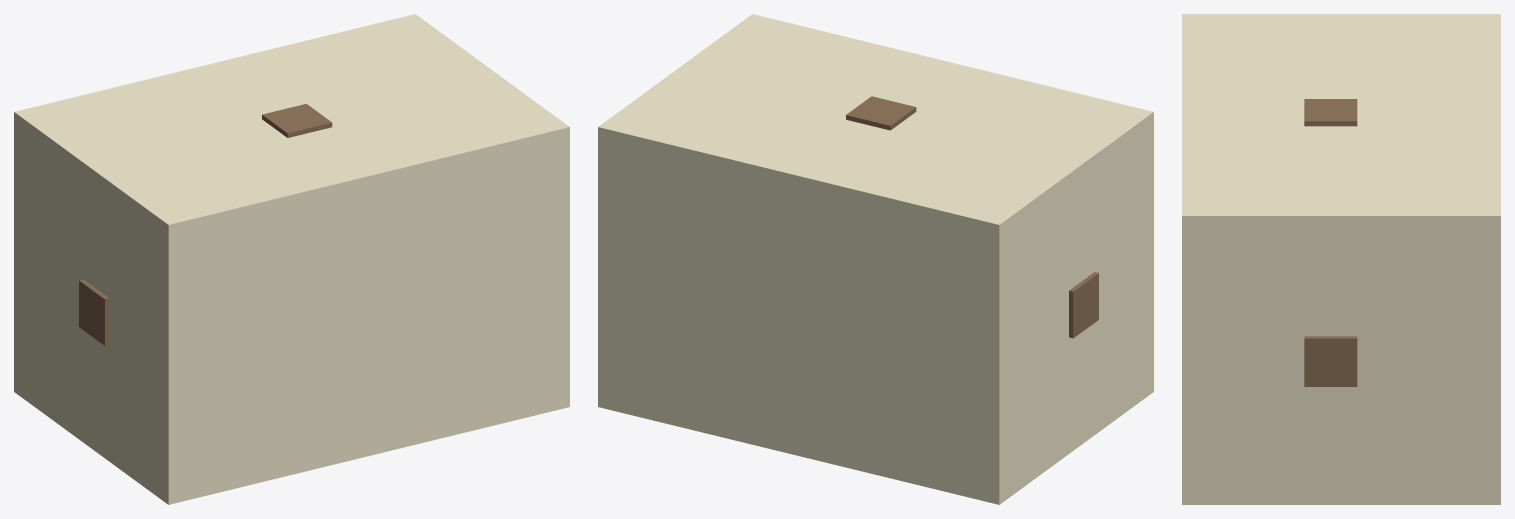
The model's file is quest_courier_package.glb.
3 views of the same model, side by side, from view 1: azimuth 30°, elevation 25°; view 2: azimuth 150°, elevation 25°; view 3: azimuth 270°, elevation 25° (orthographic). The views are drawn at different scales.
Parts seen in each view (by area): view 1: parcel, strap_y, strap_x; view 2: parcel, strap_y, strap_x; view 3: parcel, strap_y, strap_x.
Part boxes in pixels (x1=…): parcel: x1=14, y1=14, x2=569, y2=504; strap_y: x1=79, y1=279, x2=109, y2=345; strap_x: x1=262, y1=104, x2=332, y2=137; parcel: x1=598, y1=14, x2=1153, y2=504; strap_y: x1=1069, y1=272, x2=1098, y2=338; strap_x: x1=846, y1=96, x2=916, y2=130; parcel: x1=1182, y1=14, x2=1500, y2=504; strap_y: x1=1304, y1=336, x2=1357, y2=386; strap_x: x1=1304, y1=99, x2=1357, y2=126.
Bounding box in the file's own units: 0.92 × 0.65 × 0.6.
